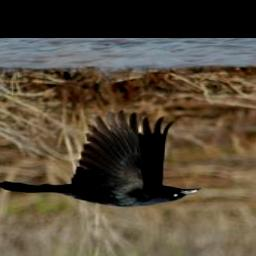Crow: (0, 110, 203, 208)
